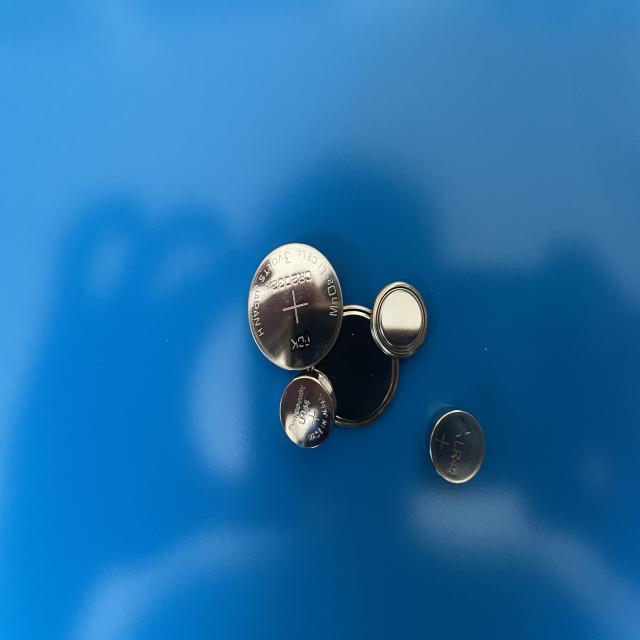COIN: (246, 240, 346, 370), (304, 300, 402, 430), (370, 278, 430, 362), (278, 372, 338, 450), (429, 411, 487, 489)
